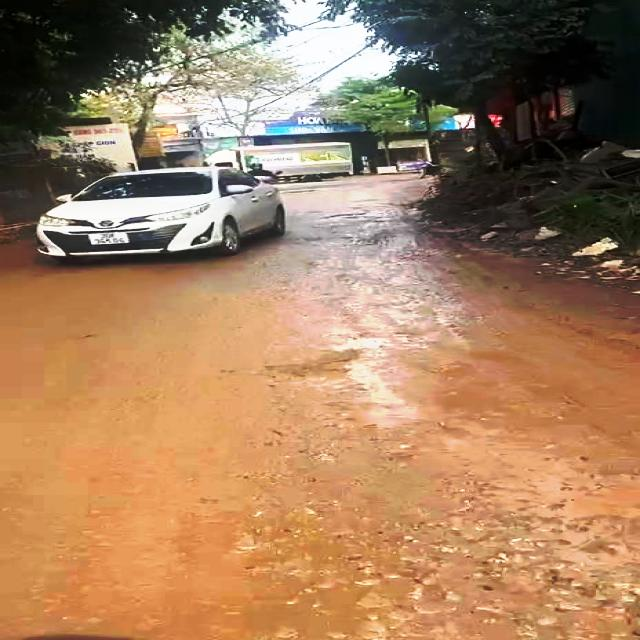pothole: (474, 462, 639, 640)
